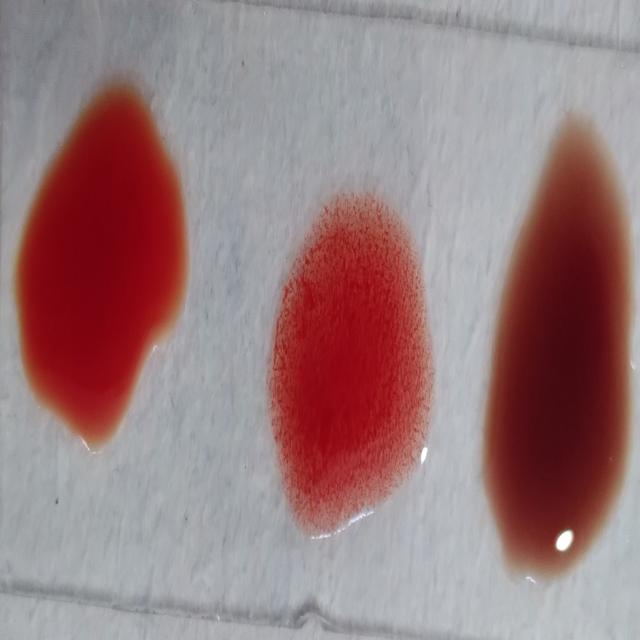D: (278, 224, 421, 529)
